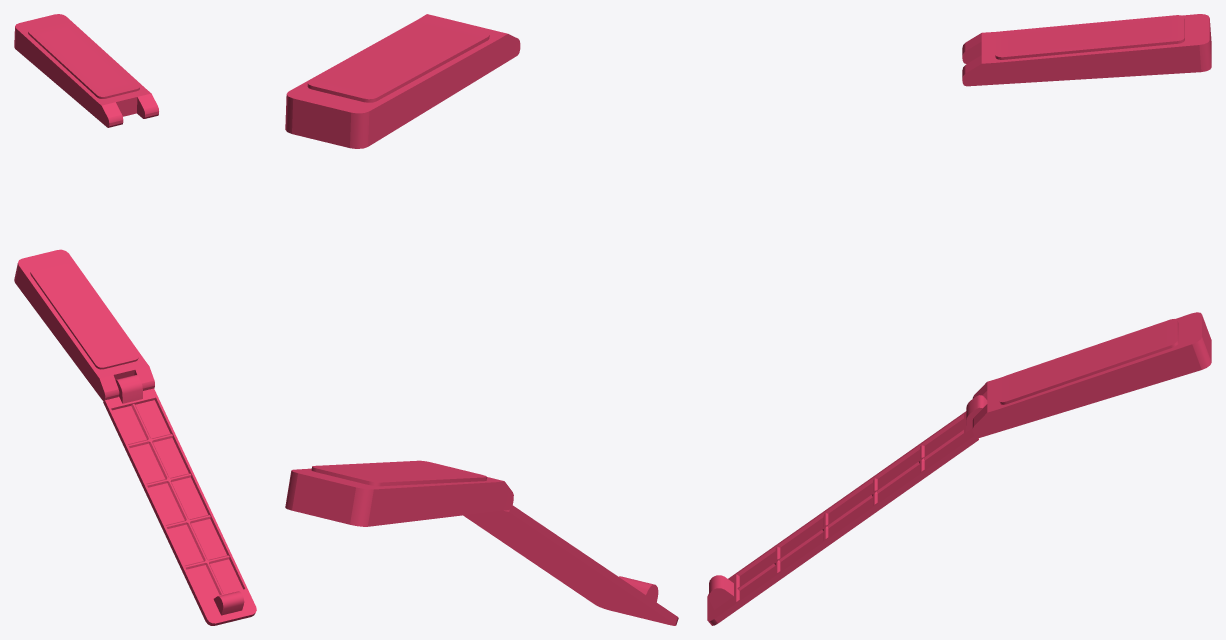
Rendered from trap_in_otkaz.fbx.
The picture shows the model from 3 angles, left to right: view 1: azimuth 30°, elevation 25°; view 2: azimuth 150°, elevation 25°; view 3: azimuth 270°, elevation 25°; orthographic projection. The views are drawn at different scales.
Visible parts, largest first — view 1: Vagon_Stateroom_Equipment_Stairs_Side_01, Vagon_Stateroom_Equipment_Stairs_01, Vagon_Stateroom_Equipment_Stairs_Up_01; view 2: Vagon_Stateroom_Equipment_Stairs_Up_01, Vagon_Stateroom_Equipment_Stairs_01, Vagon_Stateroom_Equipment_Stairs_Side_01; view 3: Vagon_Stateroom_Equipment_Stairs_Up_01, Vagon_Stateroom_Equipment_Stairs_01, Vagon_Stateroom_Equipment_Stairs_Side_01.
Boxes of the visible parts, left/top/right/bottom form: Vagon_Stateroom_Equipment_Stairs_Side_01: left=103, top=375, right=256, bottom=625; Vagon_Stateroom_Equipment_Stairs_01: left=14, top=249, right=154, bottom=401; Vagon_Stateroom_Equipment_Stairs_Up_01: left=14, top=14, right=158, bottom=127; Vagon_Stateroom_Equipment_Stairs_Up_01: left=285, top=14, right=520, bottom=148; Vagon_Stateroom_Equipment_Stairs_01: left=285, top=460, right=513, bottom=526; Vagon_Stateroom_Equipment_Stairs_Side_01: left=463, top=505, right=678, bottom=625; Vagon_Stateroom_Equipment_Stairs_Up_01: left=962, top=14, right=1211, bottom=86; Vagon_Stateroom_Equipment_Stairs_01: left=972, top=312, right=1211, bottom=437; Vagon_Stateroom_Equipment_Stairs_Side_01: left=707, top=395, right=987, bottom=625.
Bounding box in the file's own units: 52.8 × 7.68 × 67.62.
